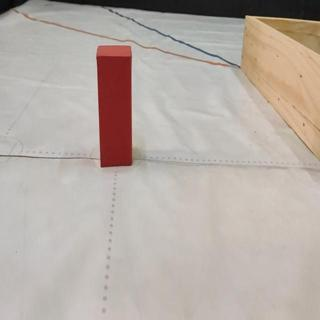redbox: (95, 43, 132, 166)
